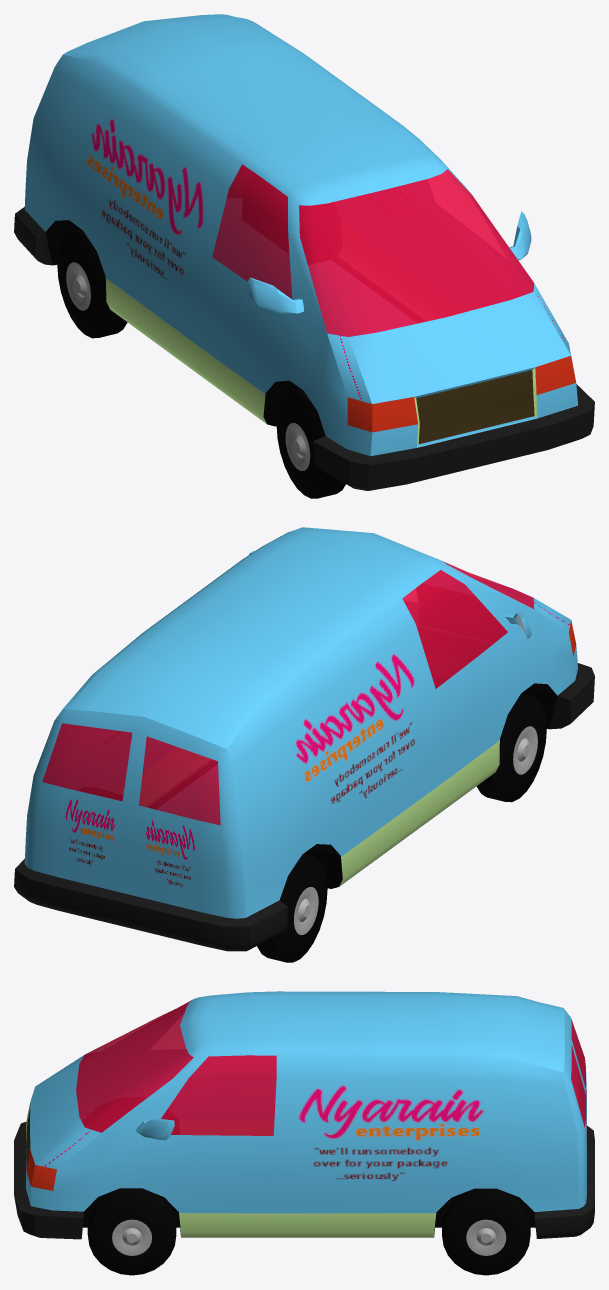
File: OPP DELIVERY VAN.gltf
3 views of the same model, one above another, from view 1: azimuth 30°, elevation 25°; view 2: azimuth 150°, elevation 25°; view 3: azimuth 270°, elevation 25° (orthographic). The views are drawn at different scales.
Parts seen in each view (by area): view 1: BODY, WHEEL.BACK.RIGHT, WHEEL.FRONT.RIGHT, MIRRORS; view 2: BODY, WHEEL.FRONT.RIGHT, WHEEL.BACK.RIGHT; view 3: BODY, WHEEL.FRONT.LEFT, WHEEL.BACK.LEFT, MIRRORS.
Part boxes in pixels (<box>): BODY: <box>14,14,594,490</box>; WHEEL.BACK.RIGHT: <box>57,229,127,338</box>; WHEEL.FRONT.RIGHT: <box>276,389,345,498</box>; MIRRORS: <box>247,211,531,314</box>; BODY: <box>14,527,594,951</box>; WHEEL.FRONT.RIGHT: <box>476,693,546,802</box>; WHEEL.BACK.RIGHT: <box>257,854,327,962</box>; BODY: <box>14,991,594,1239</box>; WHEEL.FRONT.LEFT: <box>87,1188,176,1275</box>; WHEEL.BACK.LEFT: <box>442,1188,530,1275</box>; MIRRORS: <box>136,1118,174,1139</box>.
Bounding box in the file's own units: 2.78 × 2.64 × 6.25.
Materials: 8 (1 with a texture image).
